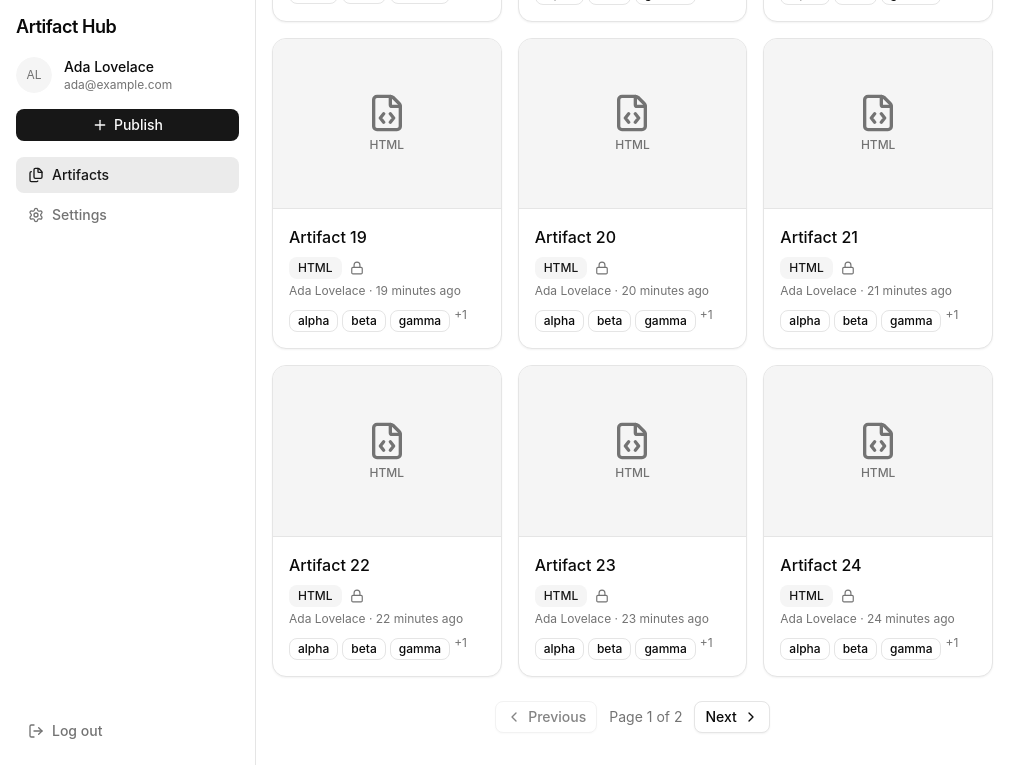
Test: gallery › pages through more than 24 artifacts with page numbers in the URL
The width and height of the screenshot is (1024, 765).
(page scrolled)
Expected: the text "Page 1 of 2" is shown, [609, 707, 682, 727]
Click the link with aria-label "Next page" at [732, 717], box [694, 701, 770, 733]
(page scrolled)
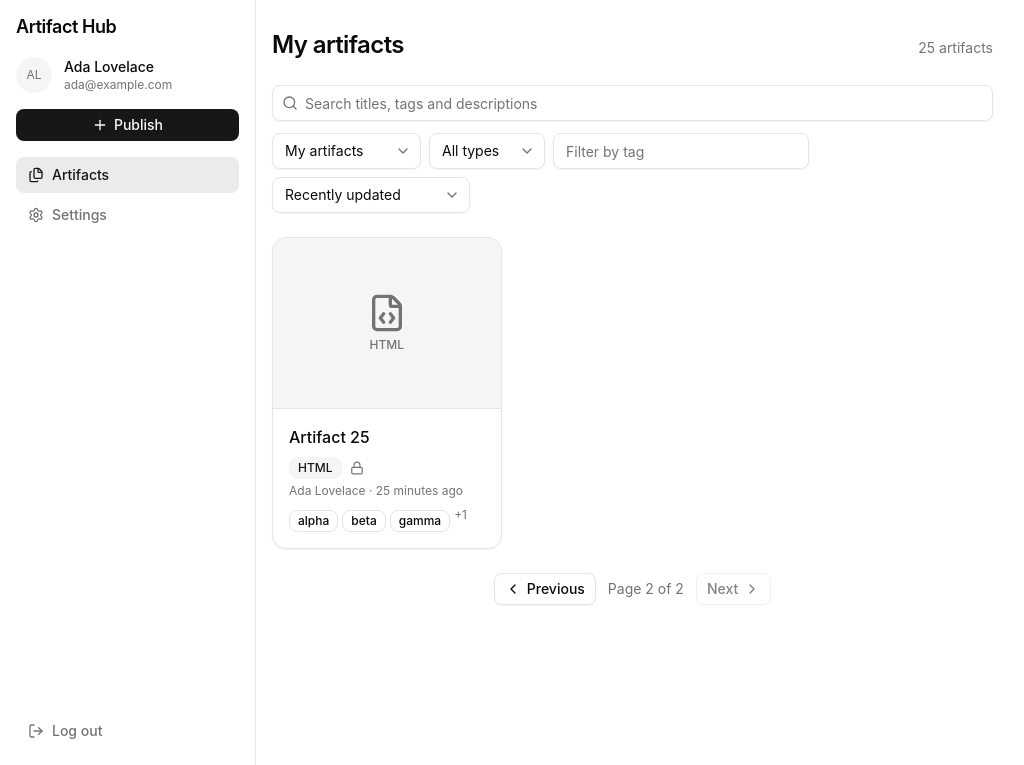
Expected: the button with aria-label "Next page" is disabled, [696, 573, 771, 605]
Expected: the text "Page 2 of 2" is shown, [608, 579, 684, 599]
Expected: the headings read "Artifact 25", in this order, [289, 427, 370, 447]
